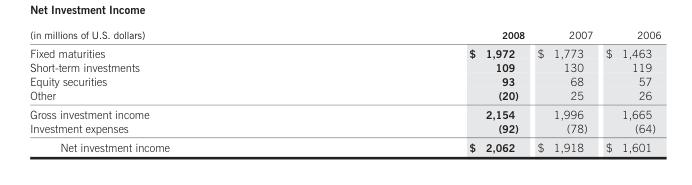table: (29, 28, 660, 153)
table column: (29, 28, 318, 153), (318, 28, 530, 153), (530, 28, 598, 153), (598, 28, 660, 153)
table column header: (29, 28, 660, 43)
table row: (29, 43, 660, 60), (29, 120, 660, 137), (29, 88, 660, 104), (29, 104, 660, 120), (29, 137, 660, 153), (29, 28, 660, 43), (29, 60, 660, 74), (29, 74, 660, 88)
